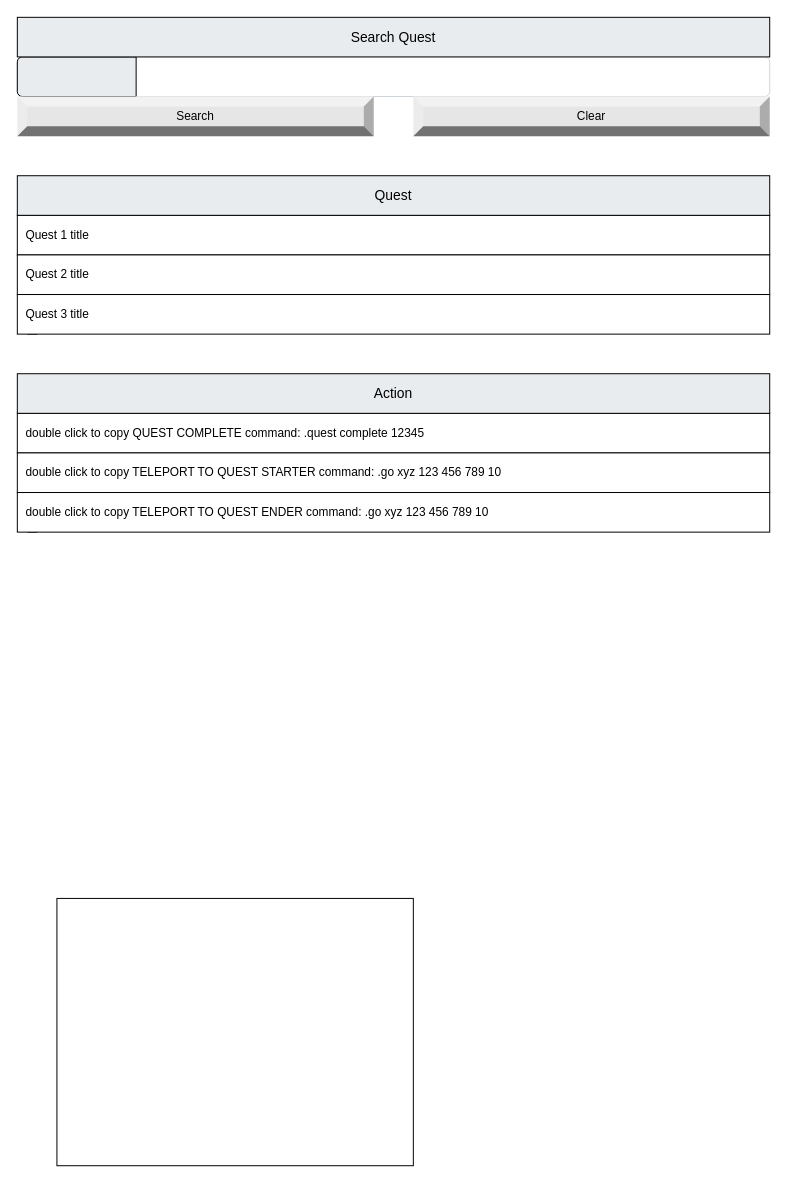
Some shapes in this 787 by 1183 pixel diagram are drawn without their labels. The shapes that lost their labels are listed below. From the top down, each one's centre as x and y in pixels, then its label:
the point at 76,76: Character
the point at 234,1031: badge
